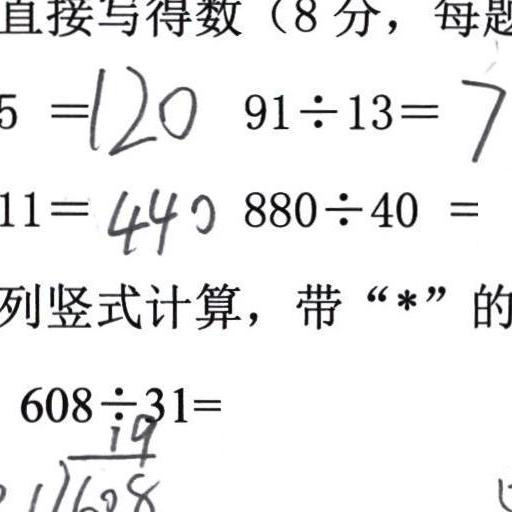ans: (82, 59, 197, 155), (102, 180, 215, 256), (455, 69, 508, 161)
